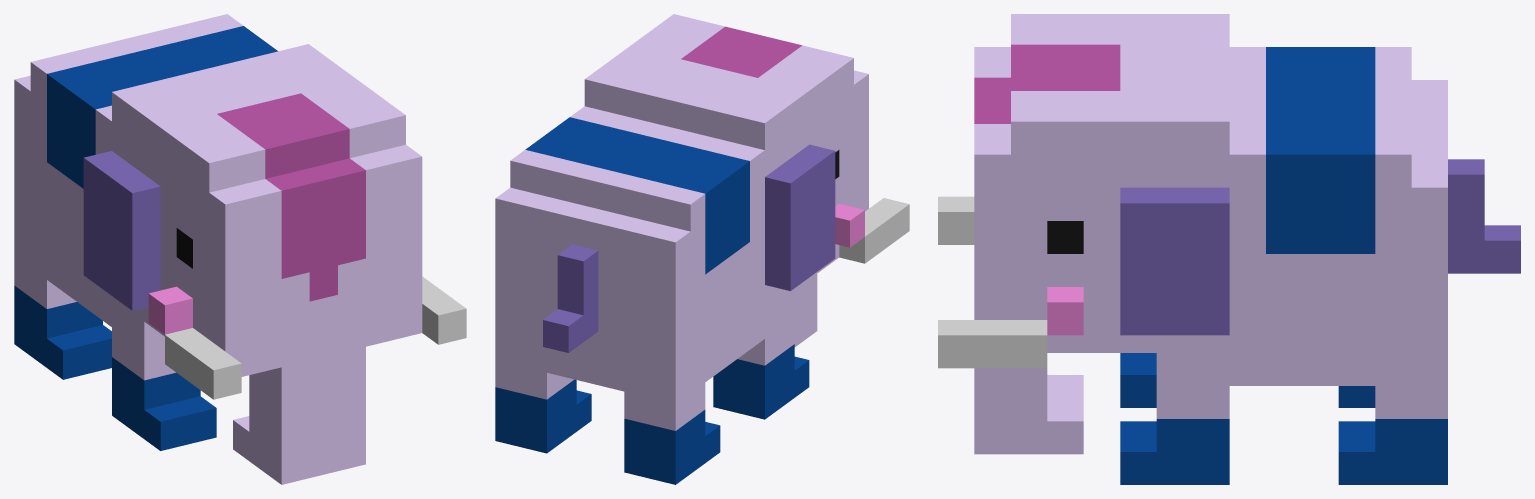
The model's file is elephant.fbx.
The picture shows the model from 3 angles, left to right: view 1: azimuth 30°, elevation 25°; view 2: azimuth 150°, elevation 25°; view 3: azimuth 270°, elevation 25°; orthographic projection. The views are drawn at different scales.
Parts seen in each view (by area): view 1: pCube1091, pCube1472, pCube1473, pCube1474, pCube1182, pCube1202, pCube1460, pCube1468, pCube906, pCube955, pCube1283, pCube194 (+142 smaller); view 2: pCube1351, pCube980, pCube1027, pCube1038, pCube1305, pCube1357, pCube1337, pCube1472, pCube158, pCube1430, pCube1297, pCube1343 (+78 smaller); view 3: pCube1019, pCube1241, pCube1462, pCube1016, pCube1148, pCube1438, pCube1030, pCube917, pCube935, pCube1023, pCube1033, pCube1056 (+120 smaller).
Part boxes in pixels (x1,y1,x2,y2): pCube1091: [193, 144, 237, 192]; pCube1472: [148, 286, 192, 334]; pCube1473: [422, 297, 466, 344]; pCube1474: [197, 351, 241, 399]; pCube1182: [116, 174, 160, 222]; pCube1202: [209, 186, 253, 233]; pCube1460: [47, 332, 91, 379]; pCube1468: [144, 403, 188, 450]; pCube906: [209, 310, 253, 351]; pCube955: [116, 211, 160, 251]; pCube1283: [209, 222, 253, 263]; pCube194: [128, 369, 172, 409]; pCube1351: [557, 244, 598, 288]; pCube980: [664, 187, 705, 231]; pCube1027: [765, 166, 805, 210]; pCube1038: [739, 106, 779, 149]; pCube1305: [650, 225, 690, 269]; pCube1357: [543, 309, 583, 352]; pCube1337: [557, 278, 598, 315]; pCube1472: [835, 203, 864, 247]; pCube158: [739, 355, 779, 392]; pCube1430: [739, 382, 779, 419]; pCube1297: [650, 258, 690, 296]; pCube1343: [650, 339, 690, 376]; pCube1019: [1083, 106, 1120, 154]; pCube1241: [1338, 139, 1375, 187]; pCube1462: [1338, 436, 1375, 484]; pCube1016: [1120, 187, 1156, 236]; pCube1148: [1193, 187, 1229, 236]; pCube1438: [1047, 405, 1083, 454]; pCube1030: [1156, 187, 1192, 236]; pCube917: [1375, 139, 1411, 187]; pCube935: [1302, 139, 1338, 187]; pCube1023: [1193, 106, 1229, 154]; pCube1033: [1229, 139, 1265, 187]; pCube1056: [1120, 106, 1156, 154].
Size of the model in its own units: 9 by 11 by 16.
